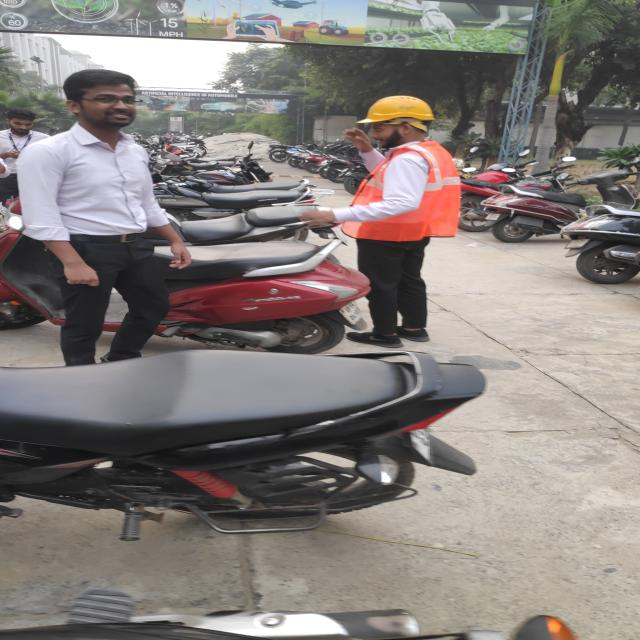safe: (334, 90, 456, 346)
unsafe: (22, 68, 160, 359), (0, 108, 47, 186)
